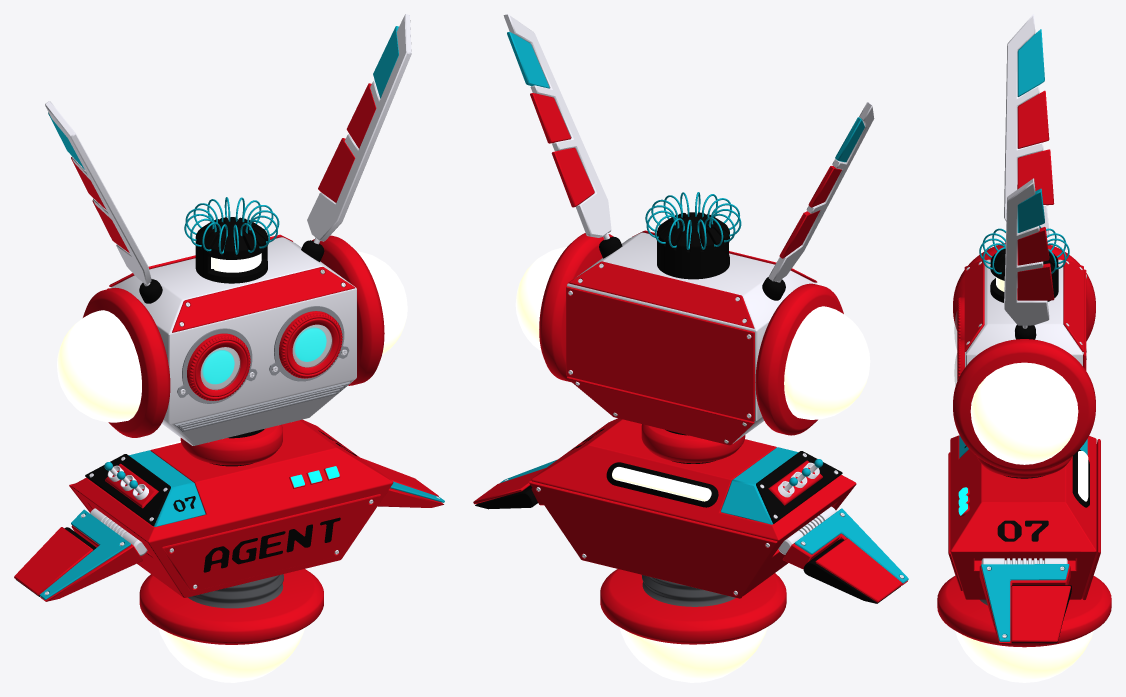
File: bee_bot12_red.glb
3 renders of one model, left to right at view 1: azimuth 30°, elevation 25°; view 2: azimuth 150°, elevation 25°; view 3: azimuth 270°, elevation 25°, orthographic. The views are drawn at different scales.
Visible parts, largest first — view 1: Red_body, Red_wing_right, Red_wing_left; view 2: Red_body, Red_wing_right, Red_wing_left; view 3: Red_body, Red_wing_left.
Boxes of the visible parts, <box> form: Red_body: <box>45,14,411,682</box>; Red_wing_right: <box>14,508,147,601</box>; Red_wing_left: <box>361,458,444,507</box>; Red_body: <box>503,14,874,682</box>; Red_wing_right: <box>778,506,908,603</box>; Red_wing_left: <box>473,459,557,509</box>; Red_body: <box>937,14,1111,682</box>; Red_wing_left: <box>979,558,1071,643</box>.
Bounding box in the file's own units: 0.6985 × 1.02 × 0.278.
